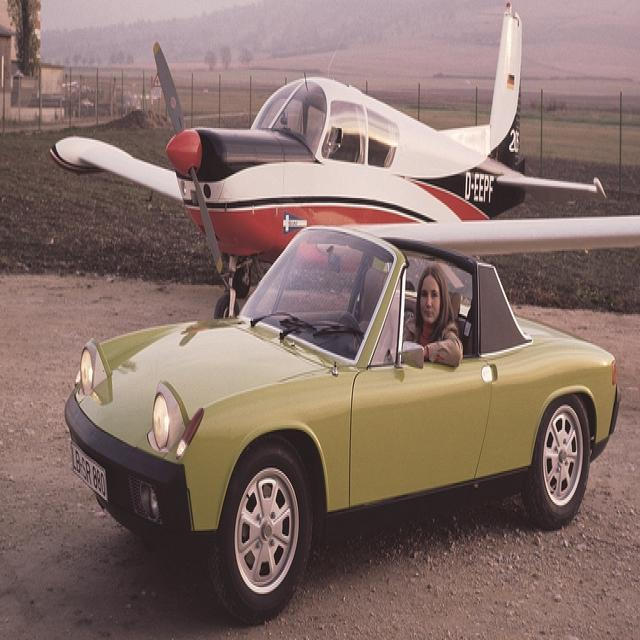Vehicle: (66, 219, 622, 622)
